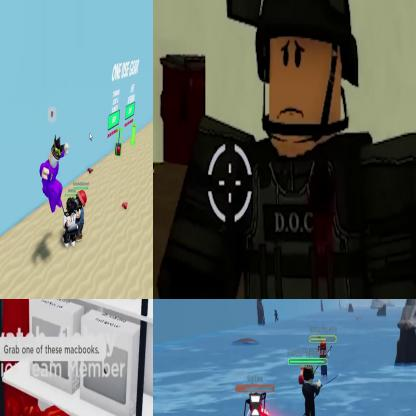Roblox-Avatar: (158, 1, 416, 299), (41, 136, 70, 214), (63, 197, 82, 250), (303, 366, 322, 416), (243, 392, 276, 416), (76, 191, 88, 243), (319, 342, 332, 384)
